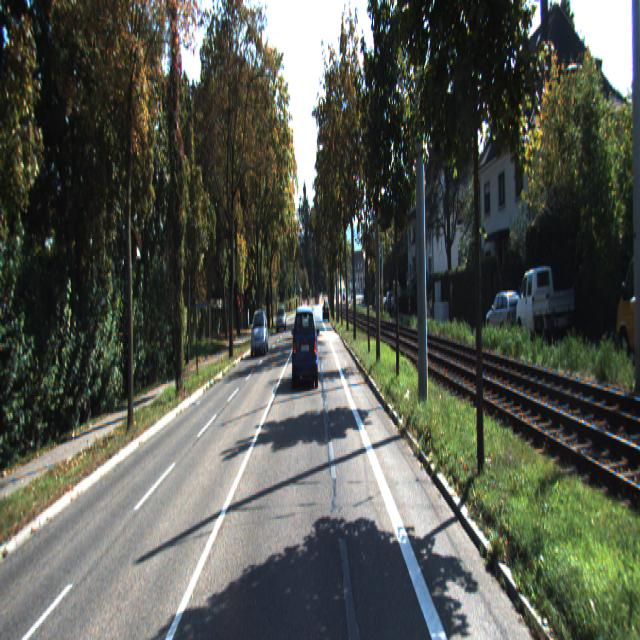Car: (515, 261, 574, 340), (614, 234, 640, 353), (292, 304, 320, 391), (486, 288, 524, 337), (250, 308, 268, 358), (276, 305, 286, 330)
